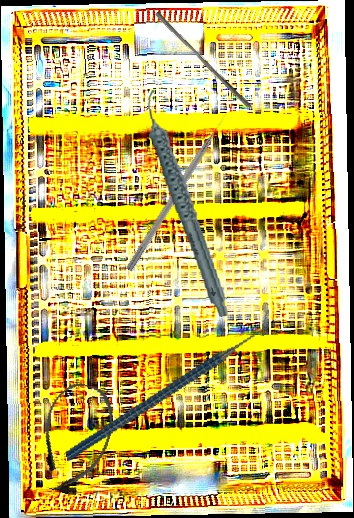Cannula: (27, 376, 123, 502)
Chopper: (43, 307, 292, 463)
Handpiece: (143, 83, 232, 323)
Pusher: (125, 110, 232, 274), (150, 10, 257, 110)
